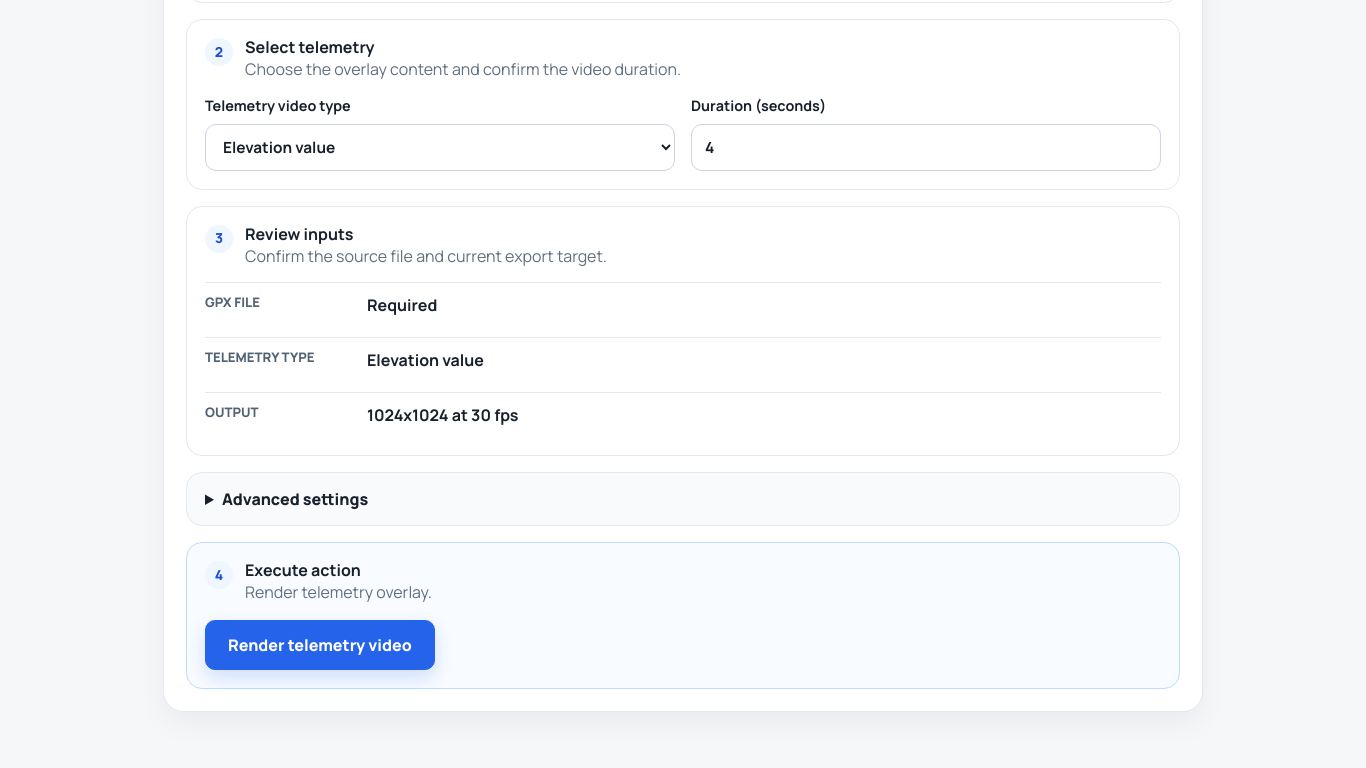
Test: App › renders the telemetry video page from the hash route
This screenshot has width=1366, height=768.
(page scrolled)
expect the dropdown labelled "Telemetry video type" is shown: met, box [205,124,675,171]
Click the heading "Advanced settings".
click(295, 499)  # box [222,488,368,510]
(page scrolled)
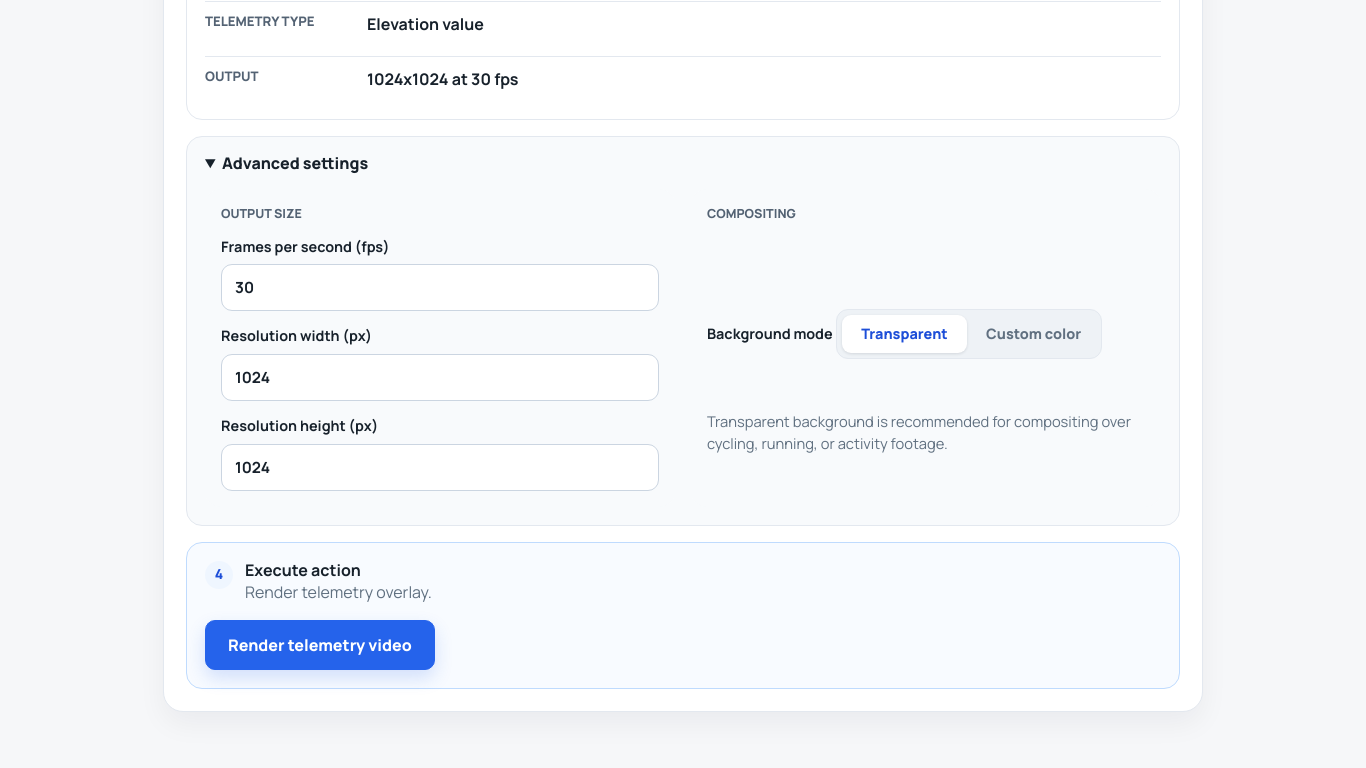
expect the button "Render telemetry video" is shown: met, box [205,620,435,670]
expect the text "Background mode" is shown: met, box [707,324,833,343]
